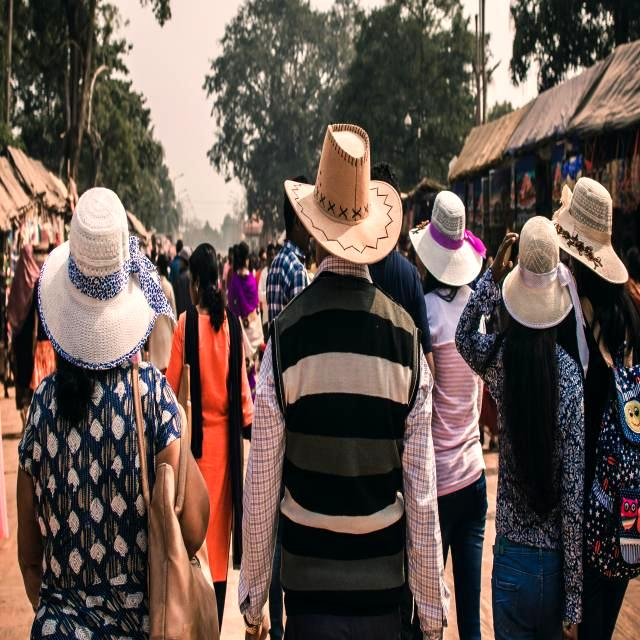no_hard_hat: (39, 188, 174, 370), (285, 124, 402, 264), (502, 216, 580, 329), (553, 177, 628, 284), (410, 191, 486, 287)
no_head_wear: (189, 243, 225, 332), (233, 241, 249, 272)
person: (246, 124, 426, 640), (18, 189, 181, 640), (454, 218, 587, 640), (558, 176, 640, 640), (412, 191, 487, 640), (166, 243, 244, 629), (228, 242, 265, 403)
